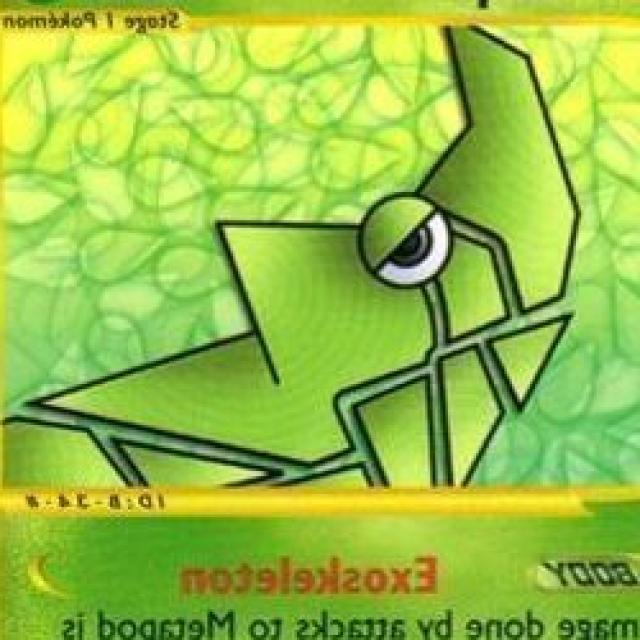Metapod: (22, 23, 581, 485)
